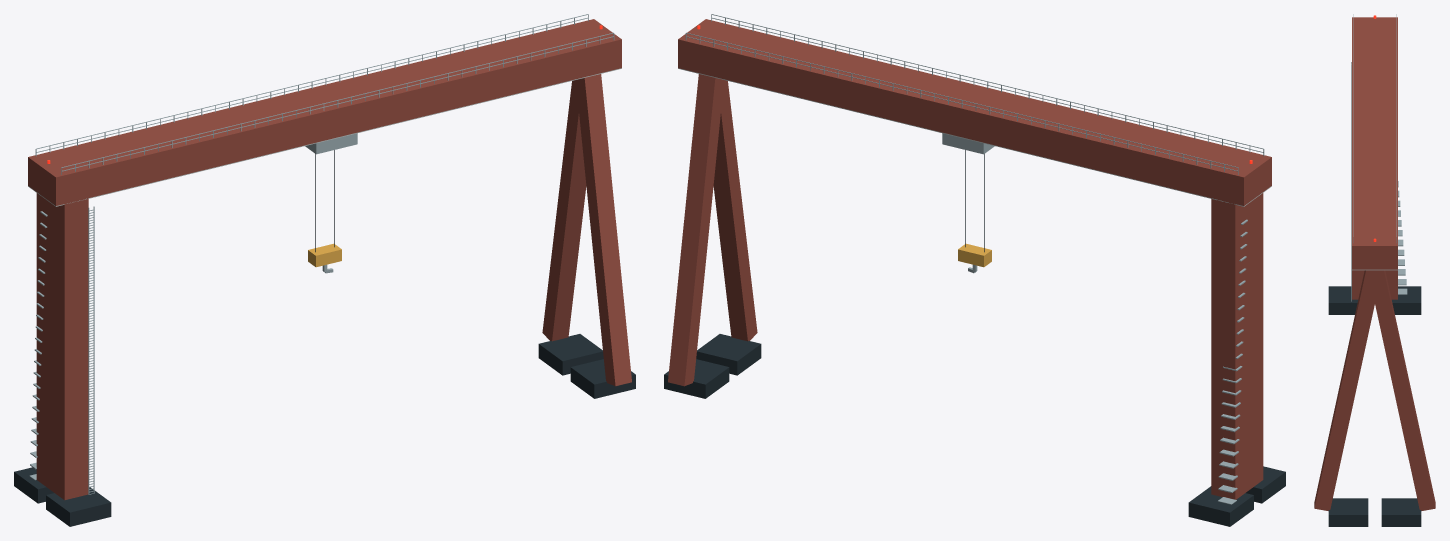
Rendered from goliath-crane.glb.
3 views of the same model, side by side, from view 1: azimuth 30°, elevation 25°; view 2: azimuth 150°, elevation 25°; view 3: azimuth 270°, elevation 25° (orthographic). The views are drawn at different scales.
Parts seen in each view (by area): view 1: Frame, Hook; view 2: Frame, Hook; view 3: Frame.
Part boxes in pixels (x1,y1,x2,y2): Frame: (14, 14, 635, 526); Hook: (308, 150, 341, 273); Frame: (664, 14, 1285, 526); Hook: (958, 150, 991, 273); Frame: (1314, 14, 1435, 526).
Bounding box in the file's own units: 82 × 48 × 18.36.
